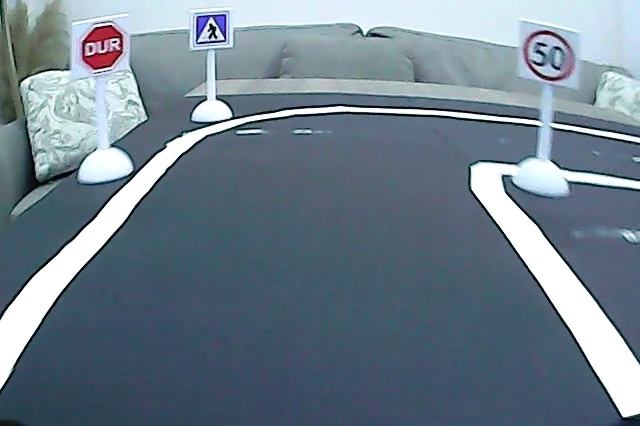pedestrian crossing: (192, 11, 231, 49)
speed limit 50: (519, 25, 577, 86)
stop sign: (76, 20, 128, 75)
